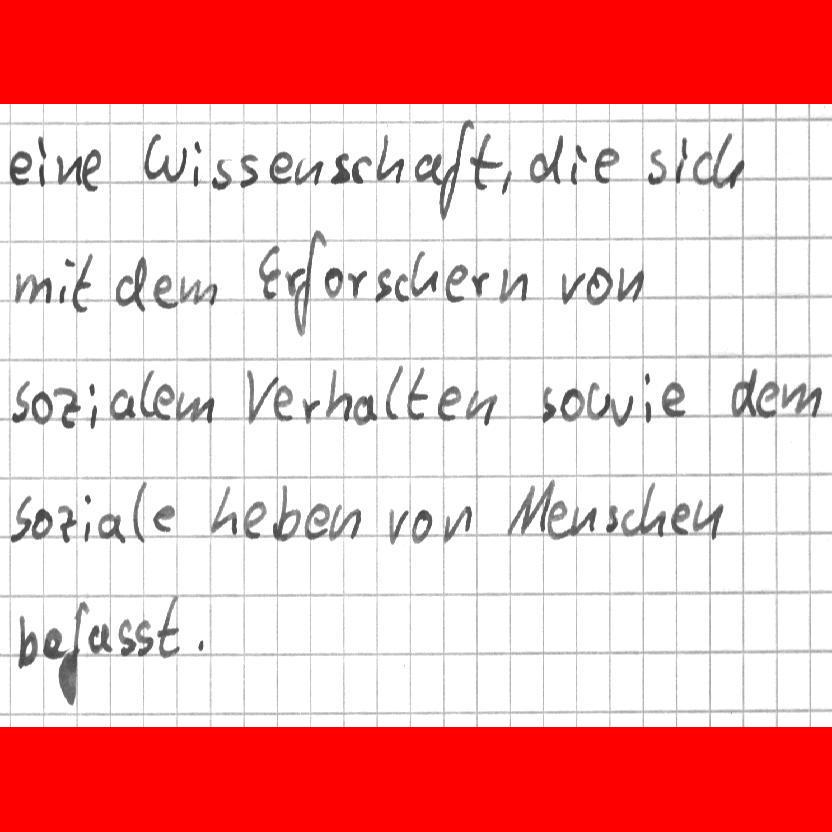Char: (439, 116, 474, 221), (293, 228, 325, 339), (59, 599, 90, 704), (505, 476, 555, 539), (139, 128, 189, 187), (586, 379, 637, 428), (468, 129, 505, 191), (525, 130, 565, 187), (711, 128, 748, 188), (113, 253, 148, 314), (270, 481, 303, 544), (242, 365, 276, 426), (155, 594, 185, 660), (779, 379, 825, 419), (321, 366, 353, 423), (374, 131, 407, 185), (689, 494, 725, 543), (208, 483, 240, 537), (403, 364, 431, 423), (176, 269, 219, 307), (11, 269, 54, 307), (639, 480, 667, 537), (494, 264, 531, 307), (257, 241, 282, 304), (71, 250, 96, 313), (728, 364, 757, 418), (173, 387, 215, 424), (13, 610, 38, 671), (326, 500, 363, 541), (590, 142, 623, 187), (409, 248, 439, 297), (584, 261, 615, 306), (51, 384, 81, 430), (465, 387, 499, 427), (441, 502, 473, 543), (441, 260, 470, 305), (659, 378, 690, 420), (130, 478, 149, 545), (7, 493, 32, 543), (543, 498, 572, 541), (384, 362, 405, 421), (151, 270, 180, 312), (752, 377, 780, 420), (615, 264, 646, 302), (303, 500, 331, 542), (240, 499, 267, 541), (557, 384, 586, 423), (237, 150, 264, 191), (436, 382, 463, 423), (557, 267, 586, 305), (107, 385, 137, 421), (569, 500, 598, 537), (150, 381, 176, 422), (55, 150, 83, 188), (82, 144, 105, 190), (7, 146, 34, 185), (270, 149, 300, 184), (413, 150, 442, 186), (86, 619, 114, 655), (28, 388, 54, 426), (351, 390, 380, 424), (9, 379, 31, 423), (272, 381, 294, 425), (321, 264, 347, 301), (293, 154, 325, 184), (567, 138, 587, 186), (97, 511, 126, 544), (386, 505, 409, 546), (648, 145, 670, 187), (672, 134, 690, 185), (344, 265, 369, 301), (57, 254, 75, 304), (41, 624, 66, 660), (33, 132, 49, 188), (410, 506, 434, 543), (138, 366, 154, 421), (349, 151, 374, 186), (116, 615, 136, 658), (136, 615, 156, 658), (329, 149, 352, 186), (211, 154, 235, 189), (373, 264, 394, 304), (152, 502, 178, 534), (31, 505, 55, 539), (668, 501, 691, 536), (467, 268, 492, 300), (539, 381, 558, 423), (640, 368, 654, 424), (692, 146, 712, 185), (57, 503, 76, 544), (283, 265, 305, 297), (620, 504, 640, 539), (192, 135, 205, 188), (300, 394, 322, 424), (497, 165, 516, 199), (88, 380, 100, 432), (392, 269, 411, 301), (82, 492, 94, 542), (603, 501, 621, 534), (196, 633, 209, 655)
